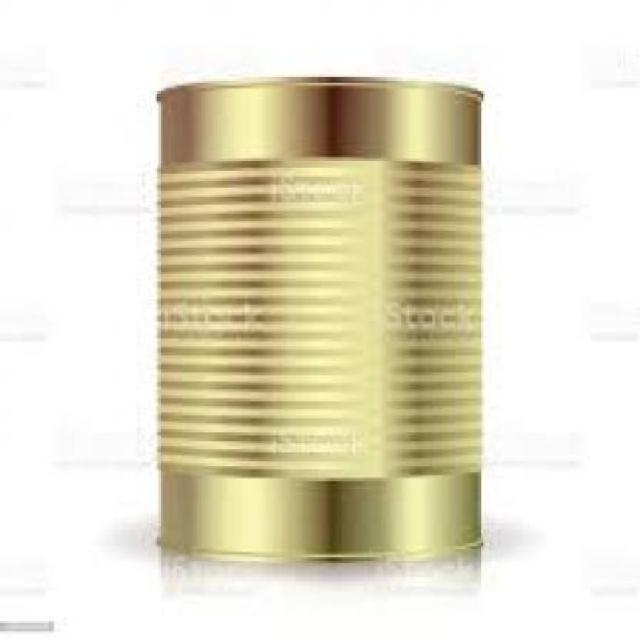metal: (154, 80, 481, 555)
